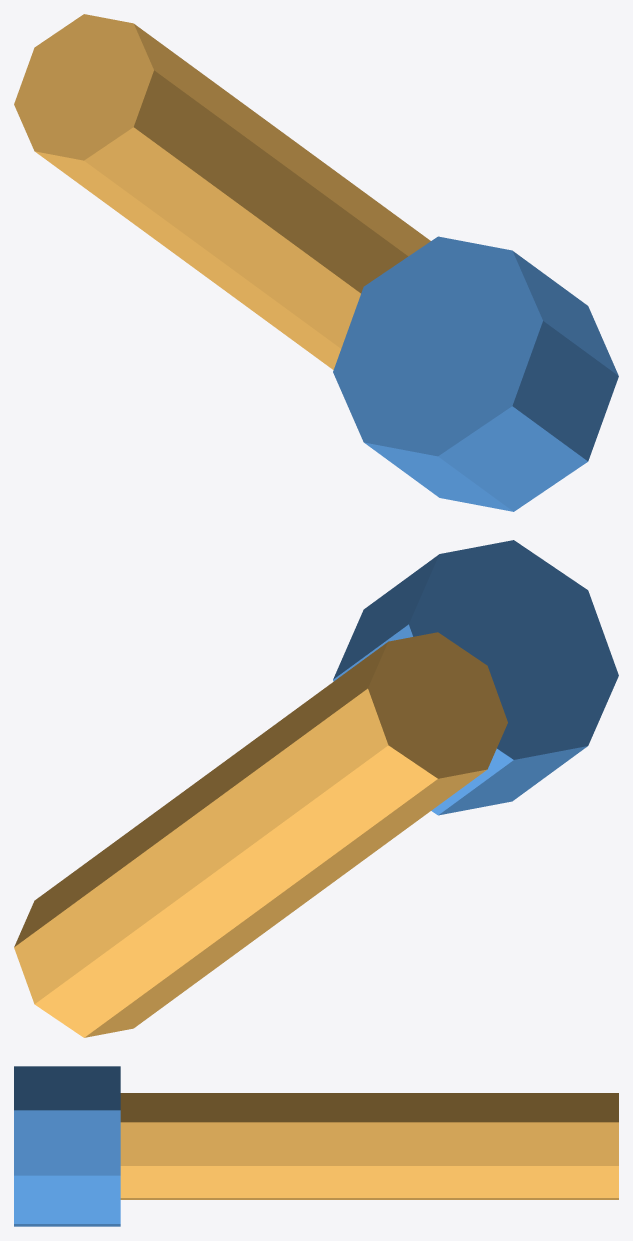
3 views of the same model, one above another, from view 1: azimuth 30°, elevation 25°; view 2: azimuth 150°, elevation 25°; view 3: azimuth 270°, elevation 25° (orthographic). The views are drawn at different scales.
Size of the model in its own units: 0.024 by 0.024 by 0.085.
